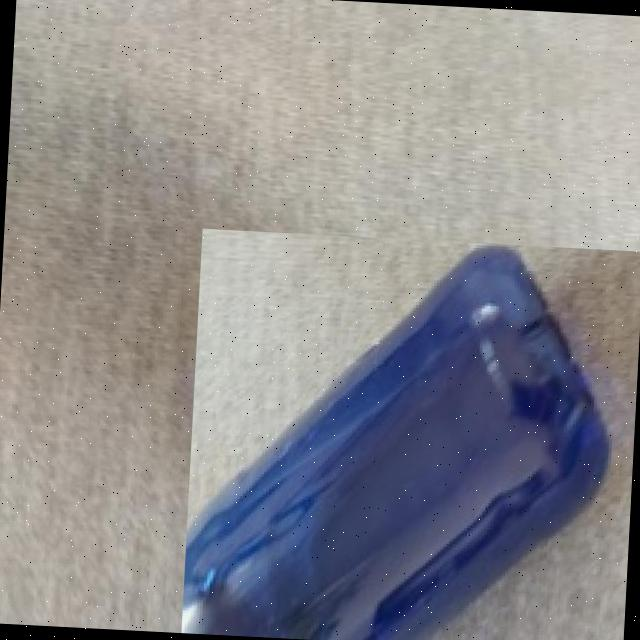bottle: (181, 228, 640, 640)
